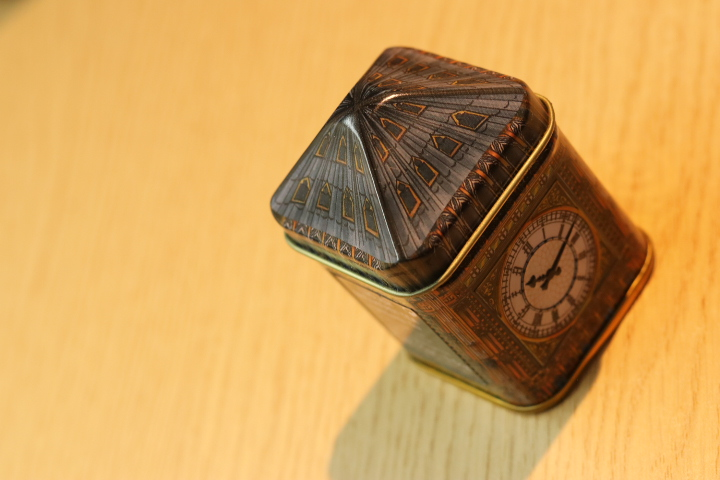Big Ben: (267, 25, 673, 424)
